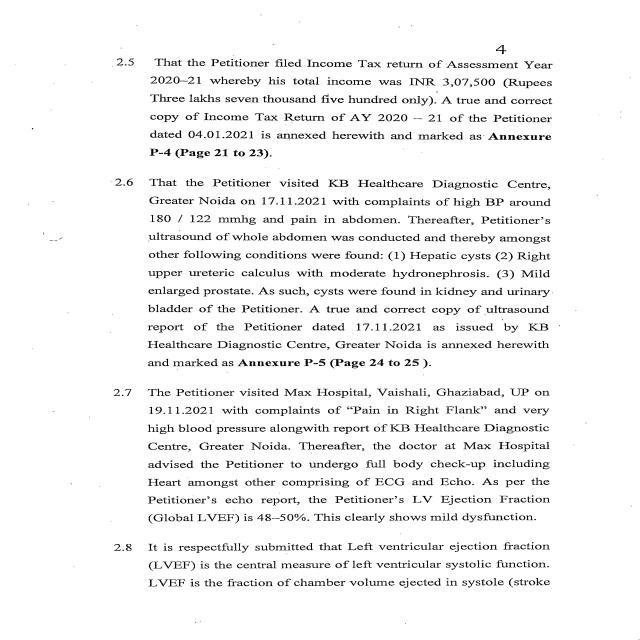page-number: (415, 0, 640, 60)
